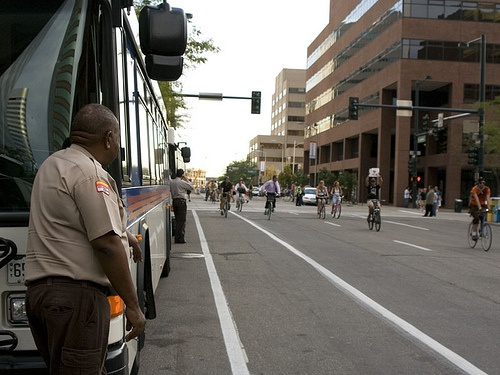non-vehicle: (467, 208, 495, 250), (367, 198, 385, 231), (263, 192, 280, 218), (330, 194, 345, 218), (315, 195, 328, 219), (233, 192, 245, 212), (223, 191, 230, 218), (209, 188, 219, 204), (283, 191, 293, 201), (252, 192, 254, 199)
